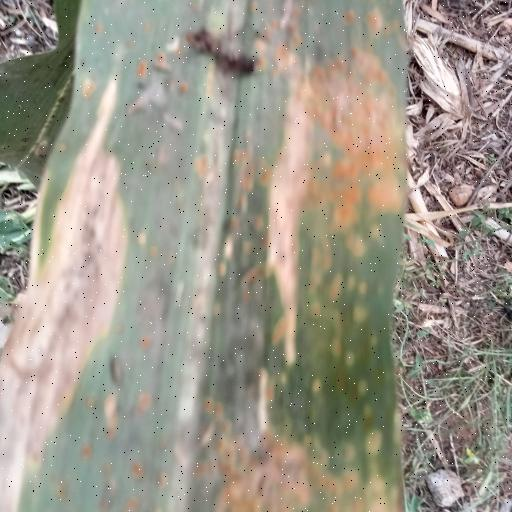Corn_Rust: (0, 0, 420, 512)
